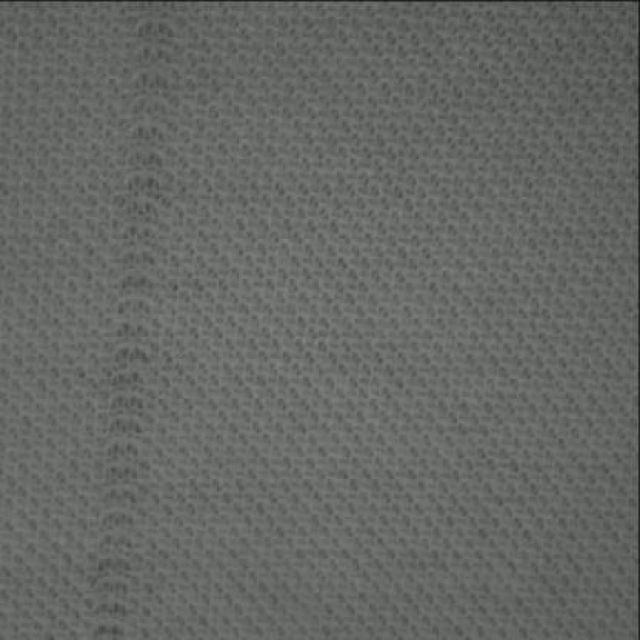Line: (95, 3, 181, 640)
